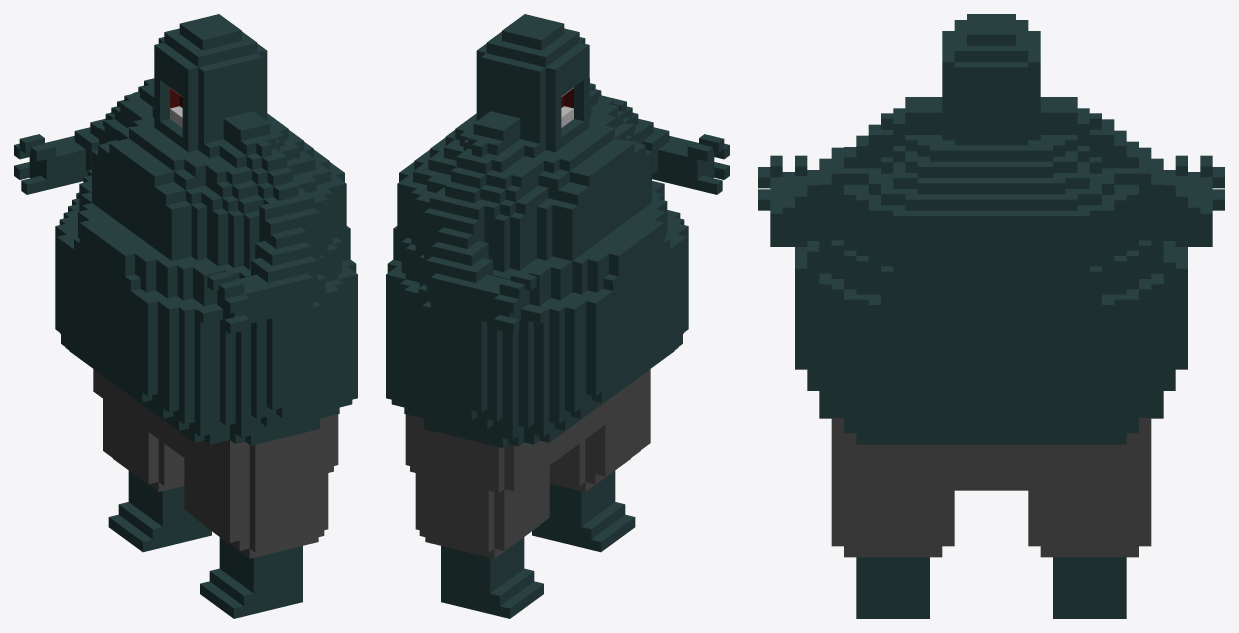
The model's file is special_zombie_giant.fbx.
3 renders of one model, left to right at view 1: azimuth 30°, elevation 25°; view 2: azimuth 150°, elevation 25°; view 3: azimuth 270°, elevation 25°, orthographic. The views are drawn at different scales.
Parts seen in each view (by area): view 1: special_zombie_giant.special_zombie_giant; view 2: special_zombie_giant.special_zombie_giant; view 3: special_zombie_giant.special_zombie_giant.
Boxes of the visible parts, x1,y1,x2,y2 form: special_zombie_giant.special_zombie_giant: (14,14,357,618); special_zombie_giant.special_zombie_giant: (386,14,729,618); special_zombie_giant.special_zombie_giant: (758,14,1224,618).
Size of the model in its own units: 2 by 5.2 by 3.8.
Materials: 1 (1 with a texture image).
